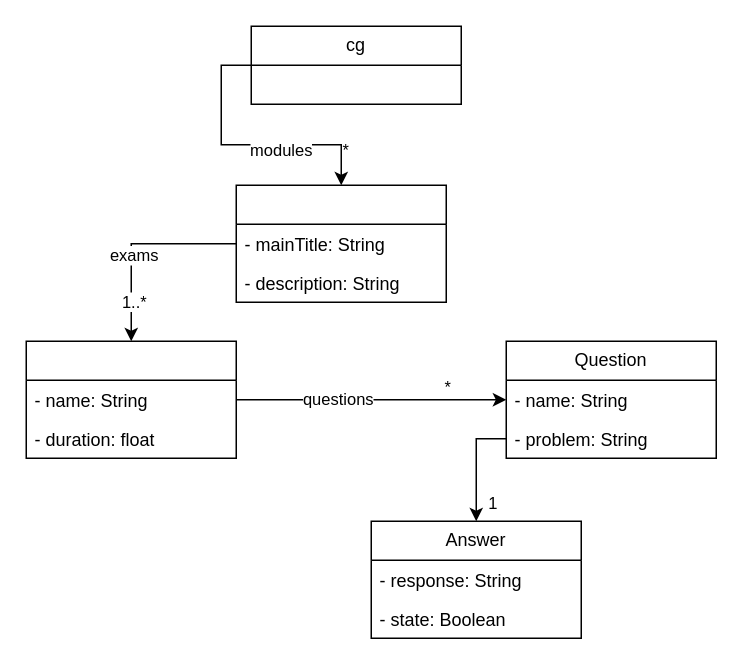
This 743x669 diagram has some shape labels left out. The shapes that lost their labels are listed below. From the top down, each one's box as (x1, y1, x2, y2) in pixels, then its label:
(235, 184, 446, 302): Module
(25, 340, 236, 458): Exam
